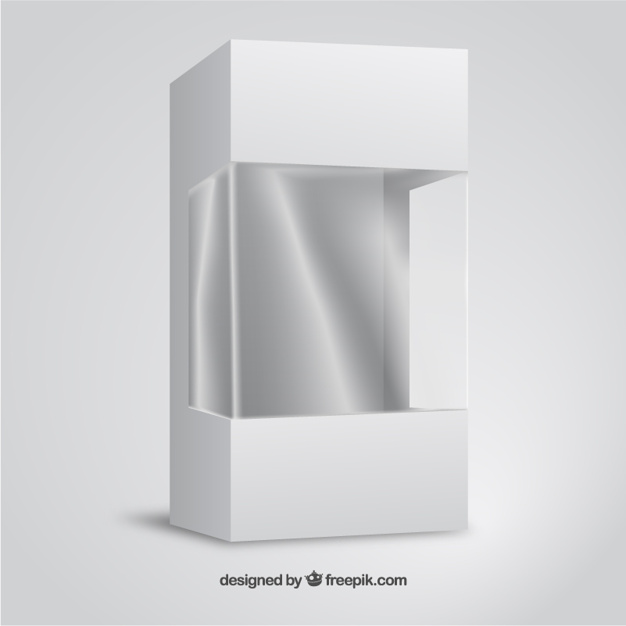PlasticBox: (159, 32, 478, 546)
